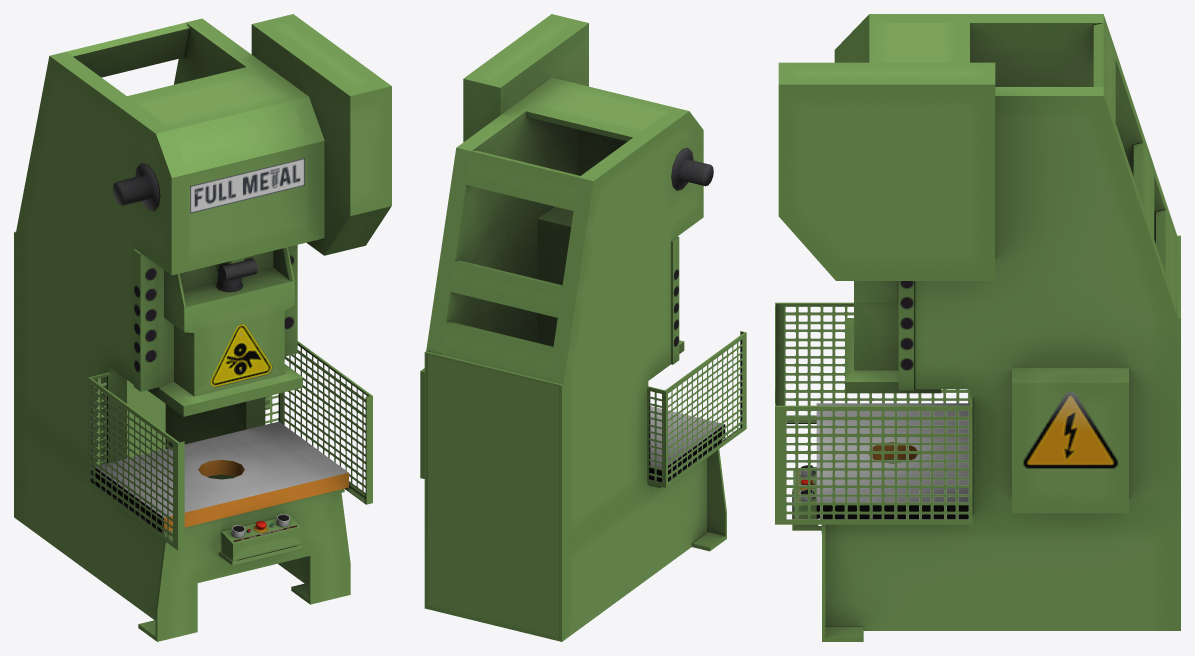
The model's file is Troqueladora.FBX.
3 views of the same model, side by side, from view 1: azimuth 30°, elevation 25°; view 2: azimuth 150°, elevation 25°; view 3: azimuth 270°, elevation 25° (orthographic). The views are drawn at different scales.
Parts seen in each view (by area): view 1: Troqueladora, Parte_principal, Mesa, Plane001, Laterales_001, Base_Panel_de_controlBox004, Puerta_Posterior, Detal 001, Mecanismo_001; view 2: Troqueladora, Puerta_Posterior, Plane001, Parte_principal, Laterales_001, Mesa, Detal 001; view 3: Troqueladora, Plane001, Mesa, Parte_principal, Laterales_001, Puerta_Posterior, Base_Panel_de_controlBox004.
Boxes of the visible parts, x1,y1,x2,y2 form: Troqueladora: (15,14,391,641); Parte_principal: (147,247,302,416); Mesa: (95,421,348,532); Plane001: (89,347,365,544); Laterales_001: (88,341,372,550); Base_Panel_de_controlBox004: (215,514,302,565); Puerta_Posterior: (14,231,165,518); Detal 001: (112,163,160,210); Mecanismo_001: (216,257,257,292); Troqueladora: (420,14,726,640); Puerta_Posterior: (424,351,563,641); Plane001: (649,337,742,484); Parte_principal: (537,206,684,353); Laterales_001: (647,331,746,487); Mesa: (650,406,725,482); Detal 001: (671,148,713,190); Troqueladora: (778,14,1177,641); Plane001: (784,306,969,521); Mesa: (816,403,969,518); Parte_principal: (845,281,941,393); Laterales_001: (775,302,972,524); Puerta_Posterior: (1177,235,1180,630); Base_Panel_de_controlBox004: (792,465,821,533).
Size of the model in its own units: 157 by 348 by 225.
2 materials, 2 textured.
